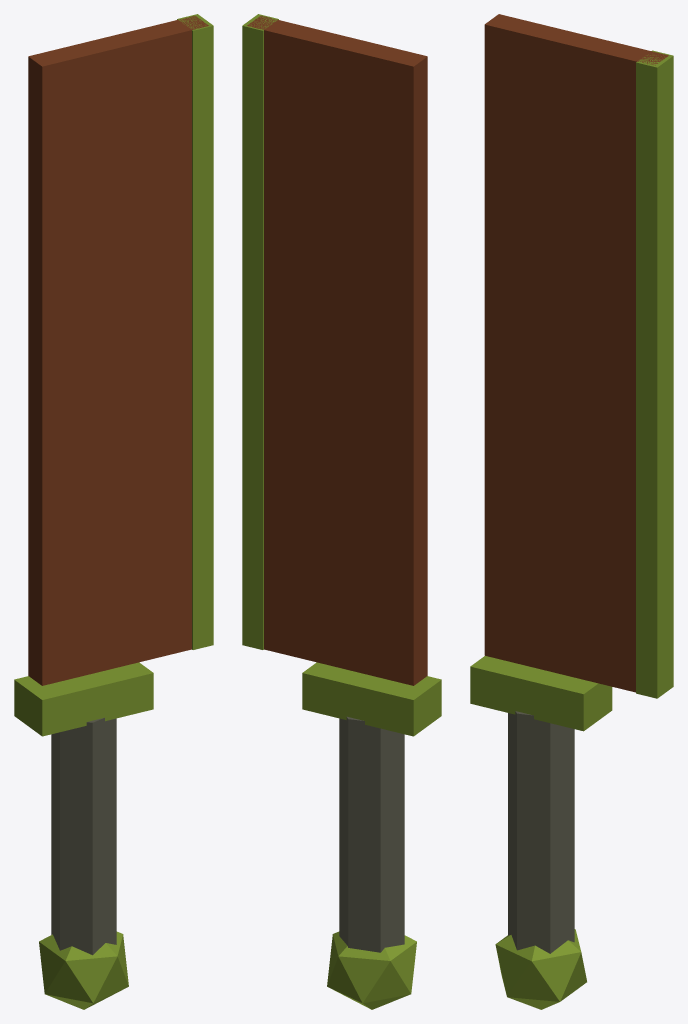
File: weapon_greatsword.glb
3 views of the same model, side by side, from view 1: azimuth 30°, elevation 25°; view 2: azimuth 150°, elevation 25°; view 3: azimuth 330°, elevation 25° (orthographic).
Parts seen in each view (by area): view 1: ratfolk_weapon_greatsword; view 2: ratfolk_weapon_greatsword; view 3: ratfolk_weapon_greatsword.
Boxes of the visible parts, <box> form: ratfolk_weapon_greatsword: <box>14,14,213,1009</box>; ratfolk_weapon_greatsword: <box>242,14,441,1009</box>; ratfolk_weapon_greatsword: <box>470,14,673,1009</box>.
Size of the model in its own units: 0.153 by 0.7908 by 0.0643.
